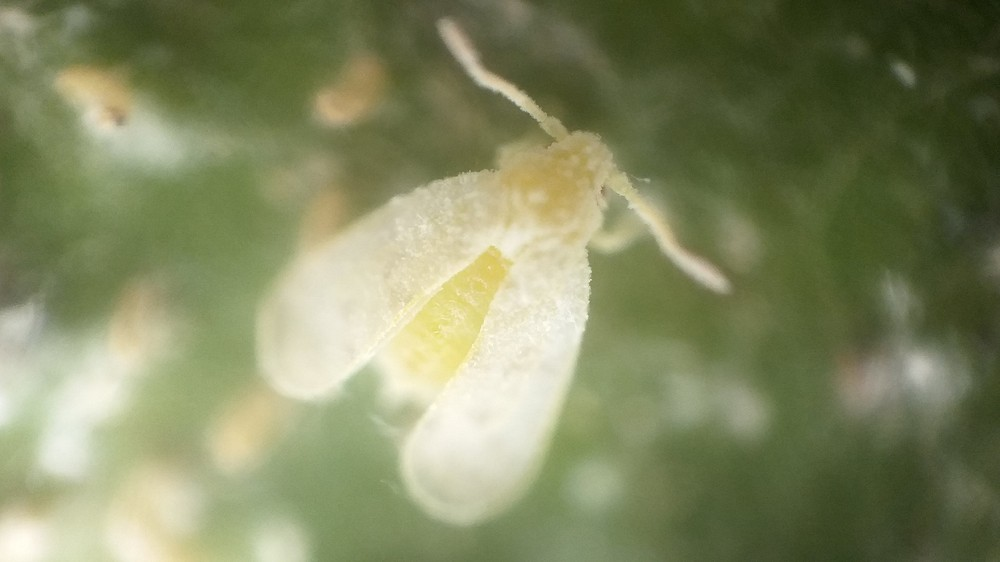Mosca Blanca: (250, 17, 750, 527)
